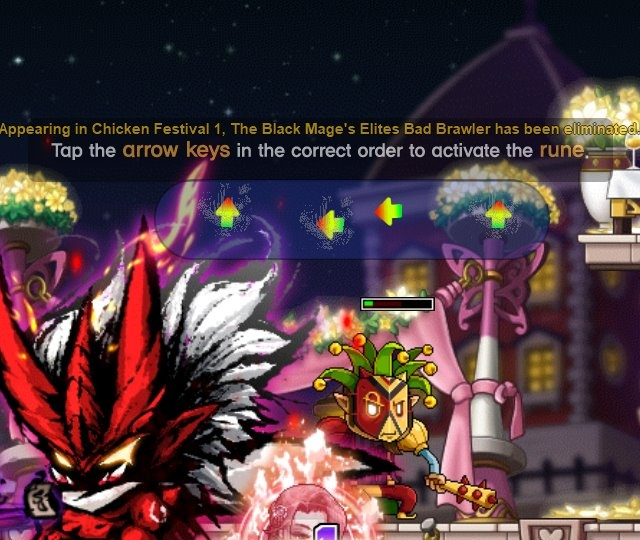rune_box: (147, 173, 565, 268)
